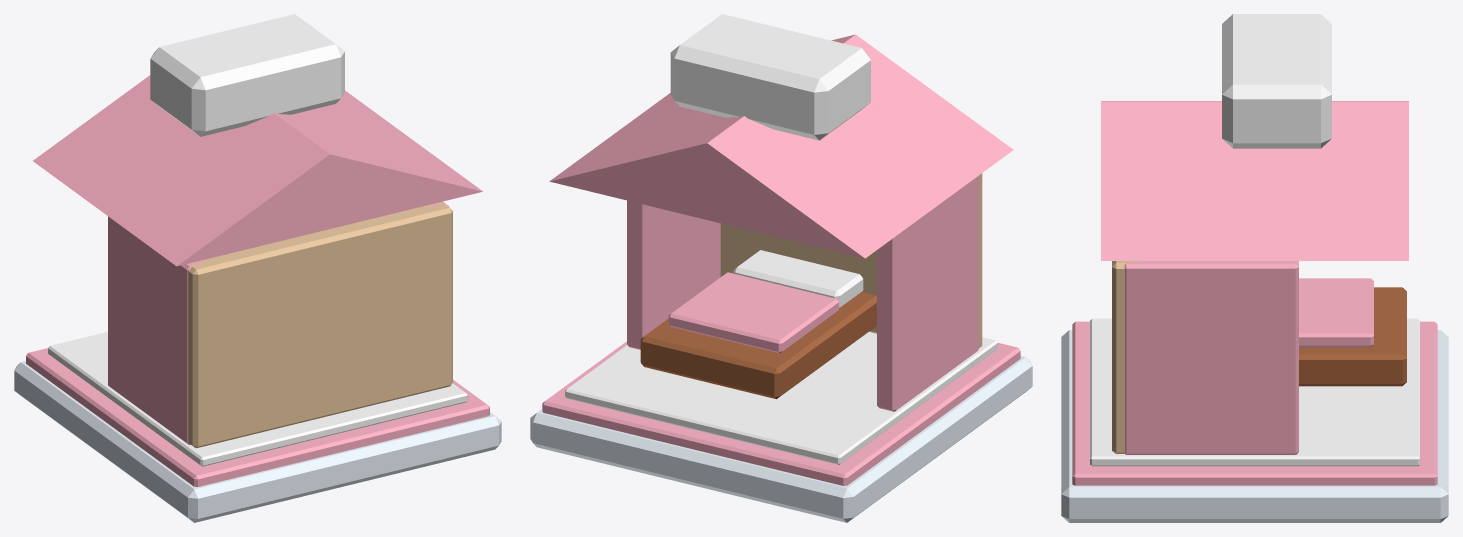
File: Building_Dormitory_1x1_v002.fbx
3 views of the same model, side by side, from view 1: azimuth 30°, elevation 25°; view 2: azimuth 150°, elevation 25°; view 3: azimuth 270°, elevation 25° (orthographic). The views are drawn at different scales.
Visible parts, largest first — view 1: FixedShell; view 2: FixedShell, WorkingPartMesh; view 3: FixedShell, WorkingPartMesh.
Part boxes in pixels (x1,y1,x2,y2): FixedShell: (14,14,501,522); FixedShell: (530,14,1032,522); WorkingPartMesh: (668,272,838,353); FixedShell: (1061,14,1448,522); WorkingPartMesh: (1299,278,1373,347).
Bounding box in the file's own units: 88 × 99 × 88.
